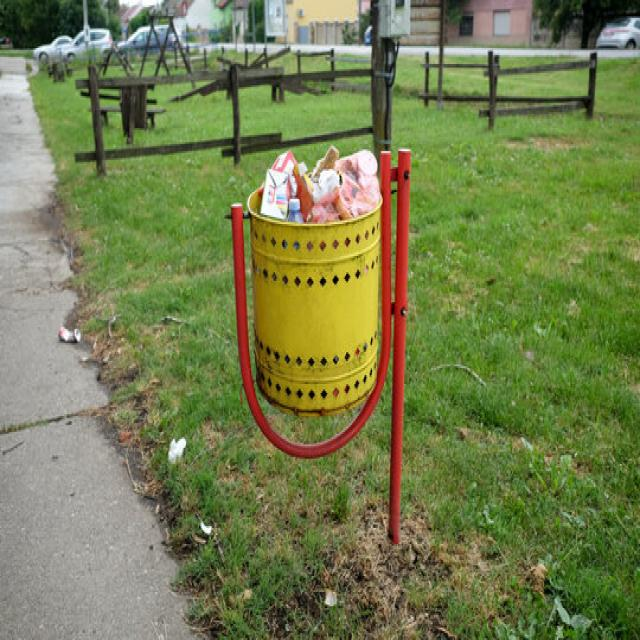metal: (248, 214, 407, 454)
trash: (260, 156, 374, 218)
